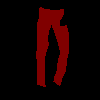jeans: (36, 6, 69, 87)
